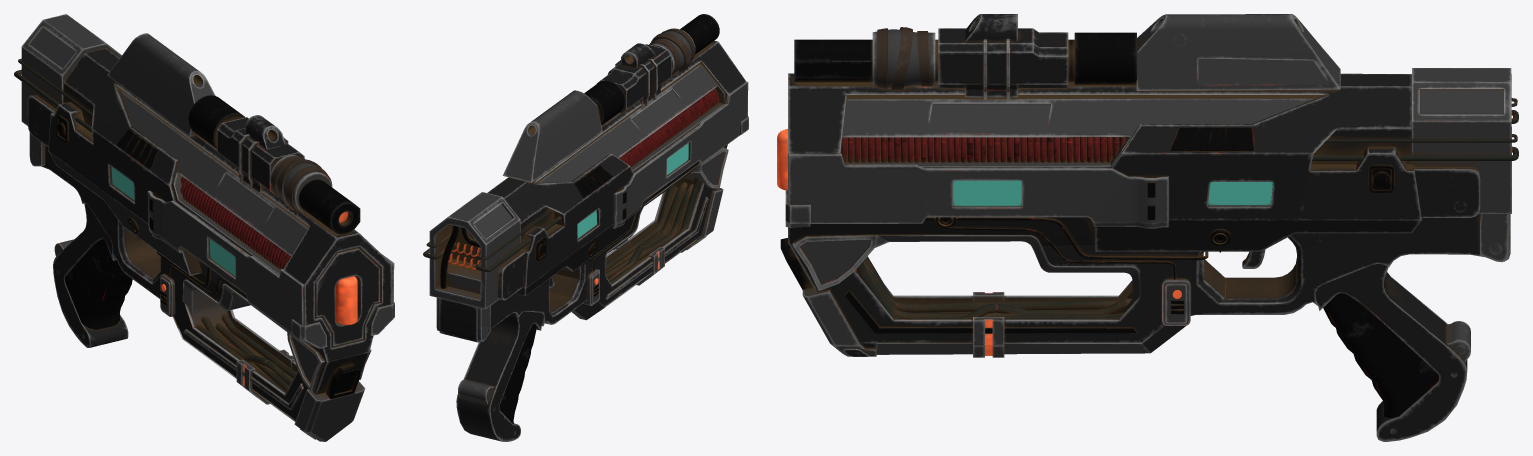
The model's file is gun_model.glb.
3 views of the same model, side by side, from view 1: azimuth 30°, elevation 25°; view 2: azimuth 150°, elevation 25°; view 3: azimuth 270°, elevation 25° (orthographic). The views are drawn at different scales.
Bounding box in the file's own units: 3.37 × 10.92 × 17.69.
1 material, 1 textured.
